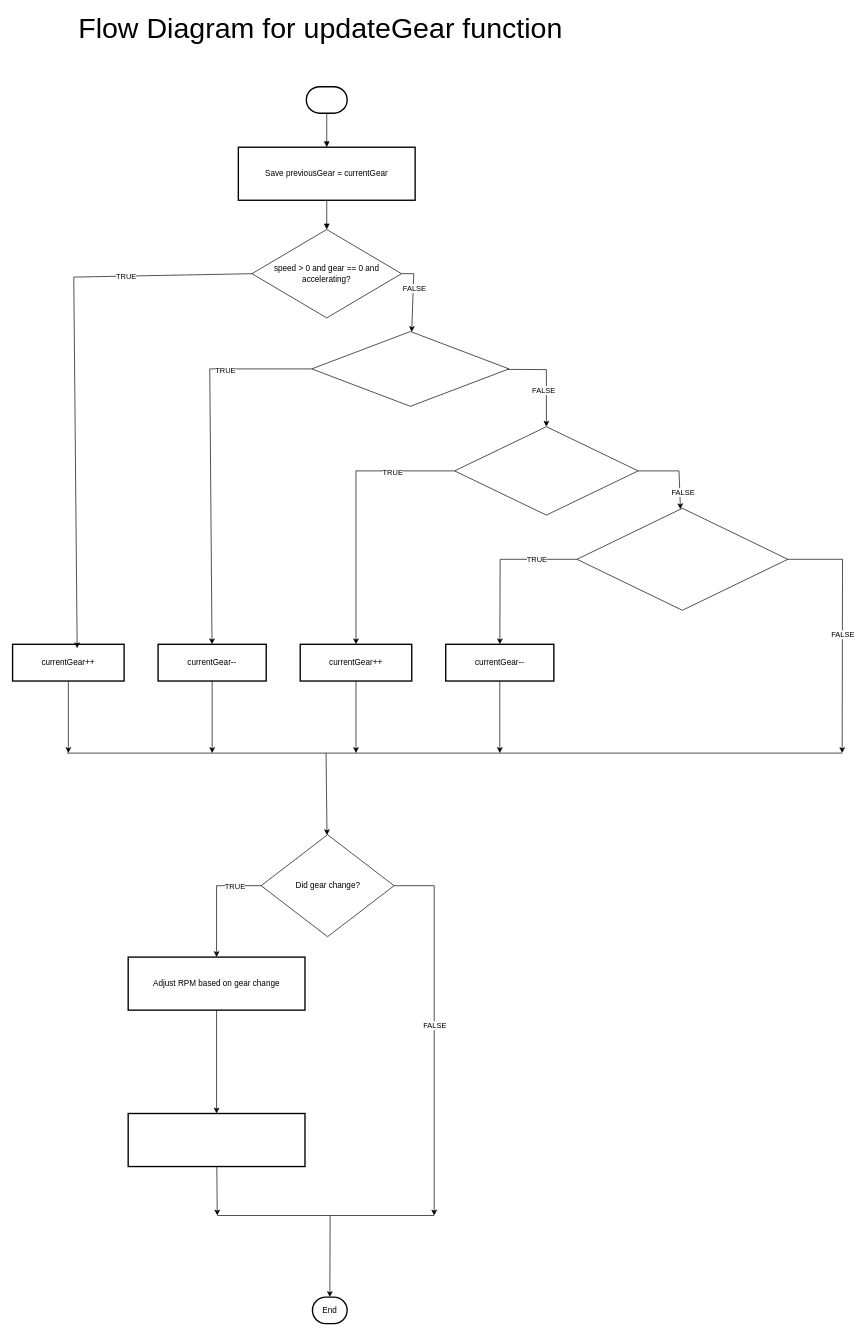
Some shapes in this 866 by 1336 pixel diagram are drawn without their labels. Here are the shapes that lost their labels. From the top down, the centre of each, then its label:
At [326,100]: "Start".
At [410,368]: "speed <= gearSpeed and gear == 1 and decelerating?".
At [546,470]: "speed > gear threshold and gear < MAX?".
At [682,559]: "speed <= lower gear speed and gear > MIN?".
At [216,1139]: "Clamp RPM between IDLE and MAX".
